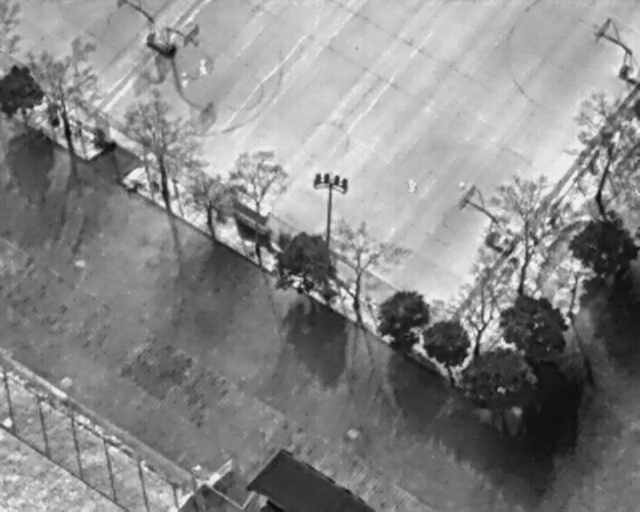Person: (199, 56, 208, 78), (408, 177, 419, 194), (179, 70, 189, 88)
